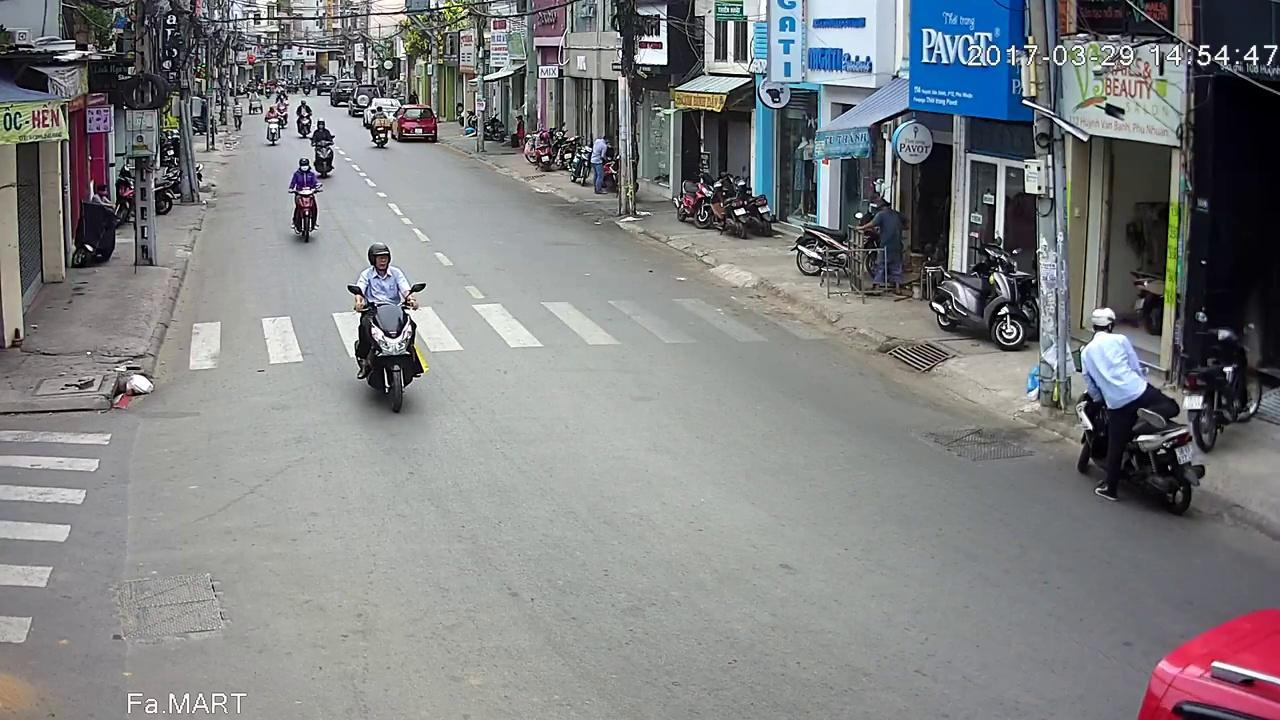xe hoi: (392, 102, 440, 140)
xe may: (1064, 299, 1206, 514), (349, 229, 431, 406), (285, 154, 321, 242), (310, 118, 337, 183), (370, 105, 391, 148), (264, 108, 282, 150), (295, 100, 312, 139)
